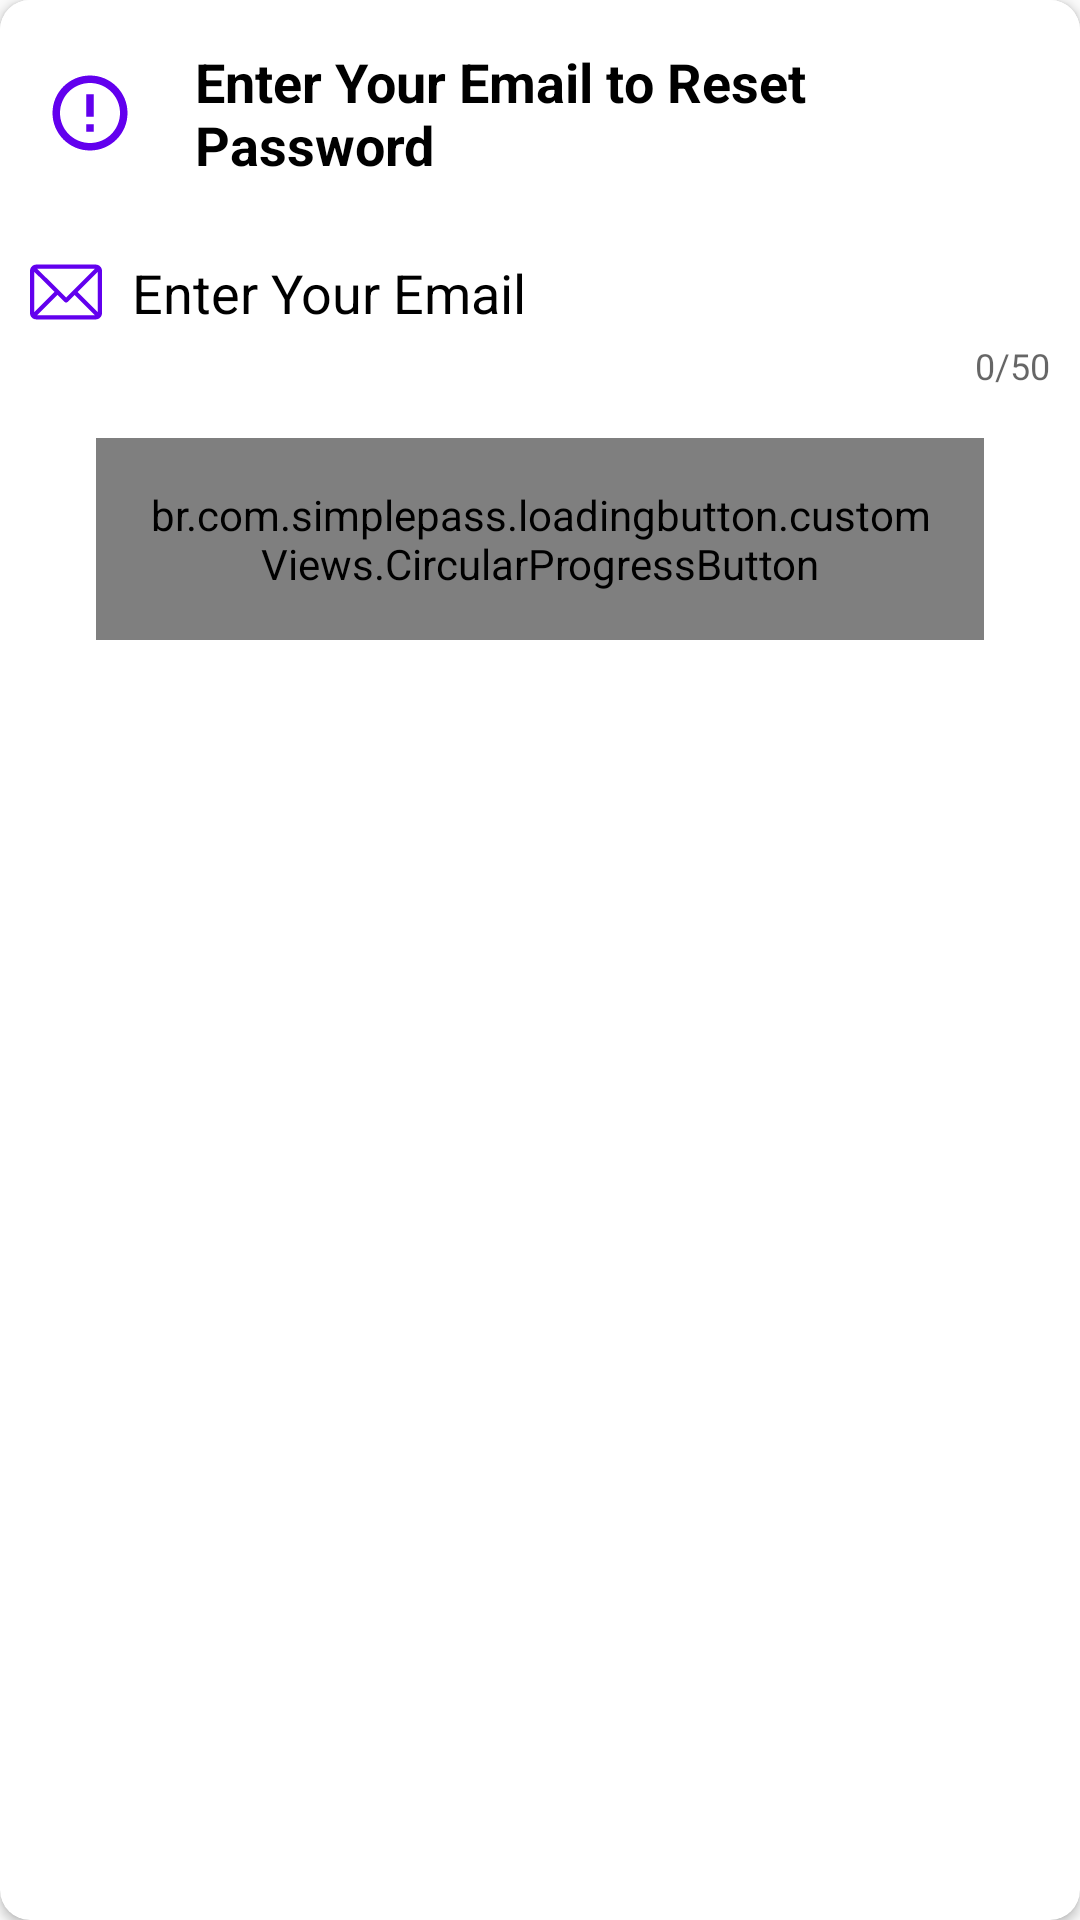

Icons on this 1080 x 1920 Android screen, each with its box as (x1, y1, x2, y2):
error: (52, 75, 128, 151)
